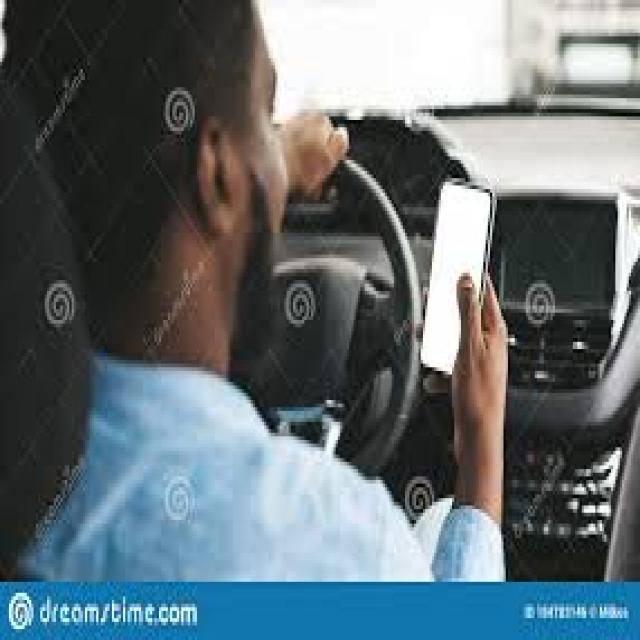Cellphone_texting: (414, 164, 512, 447)
